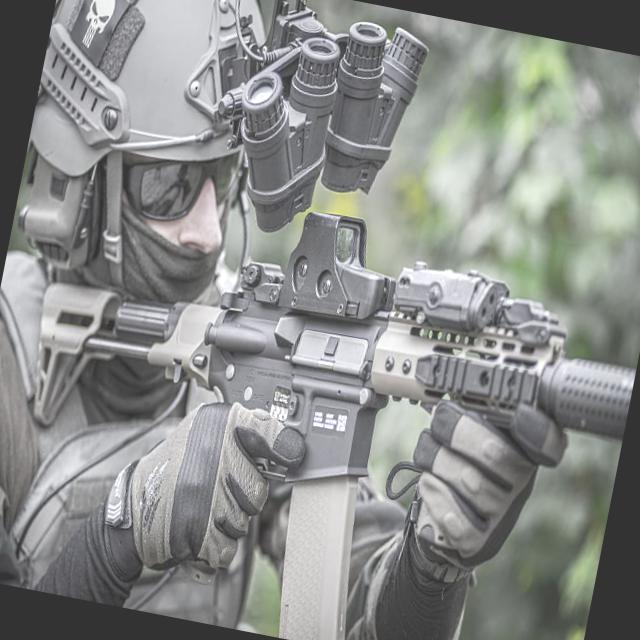long weapon: (15, 255, 640, 495)
